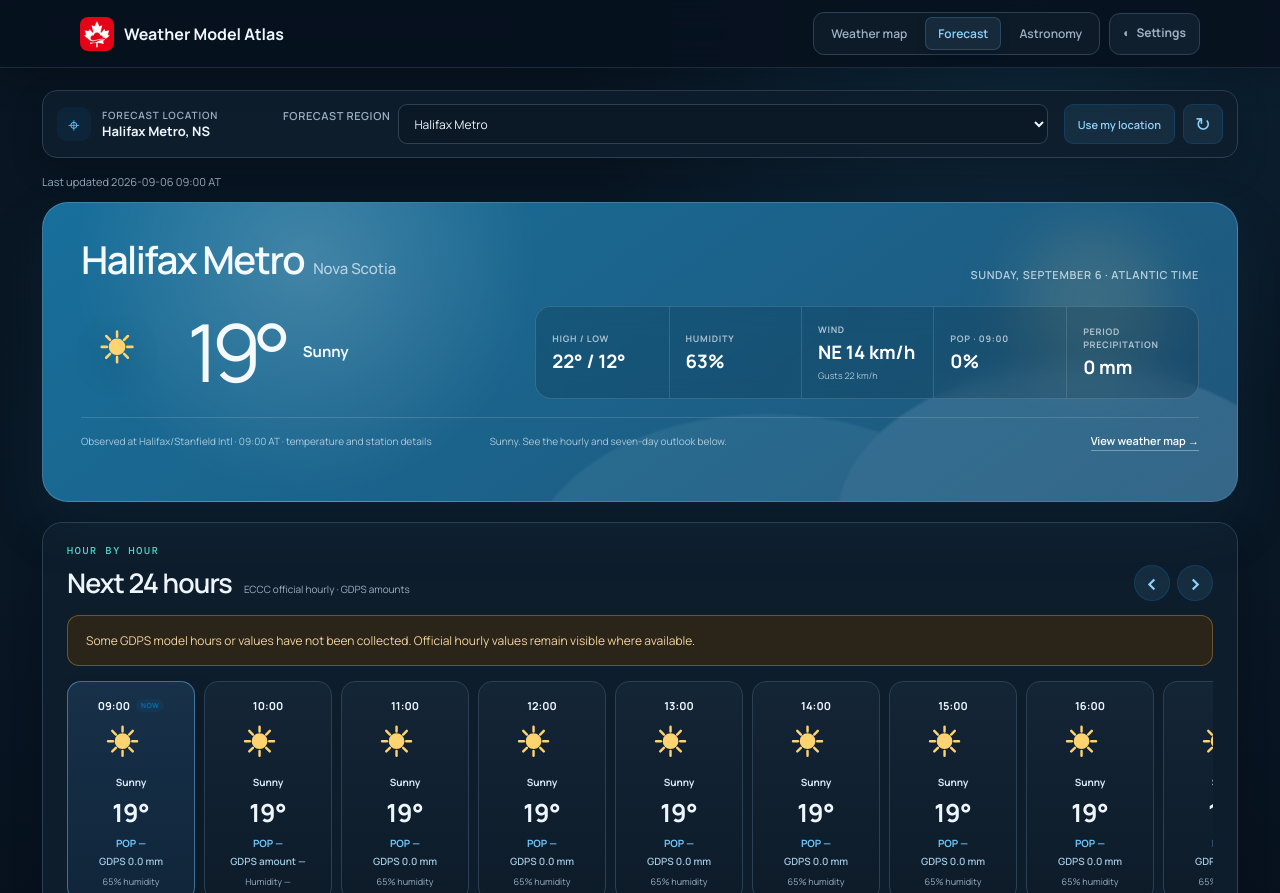
Test: forecast page › filters other regions by province and updates both outlooks only after selection
This screenshot has width=1280, height=893.
Select "Other province or territory…" in the dropdown labelled "Forecast region" at (723, 124), box [398, 104, 1048, 144]
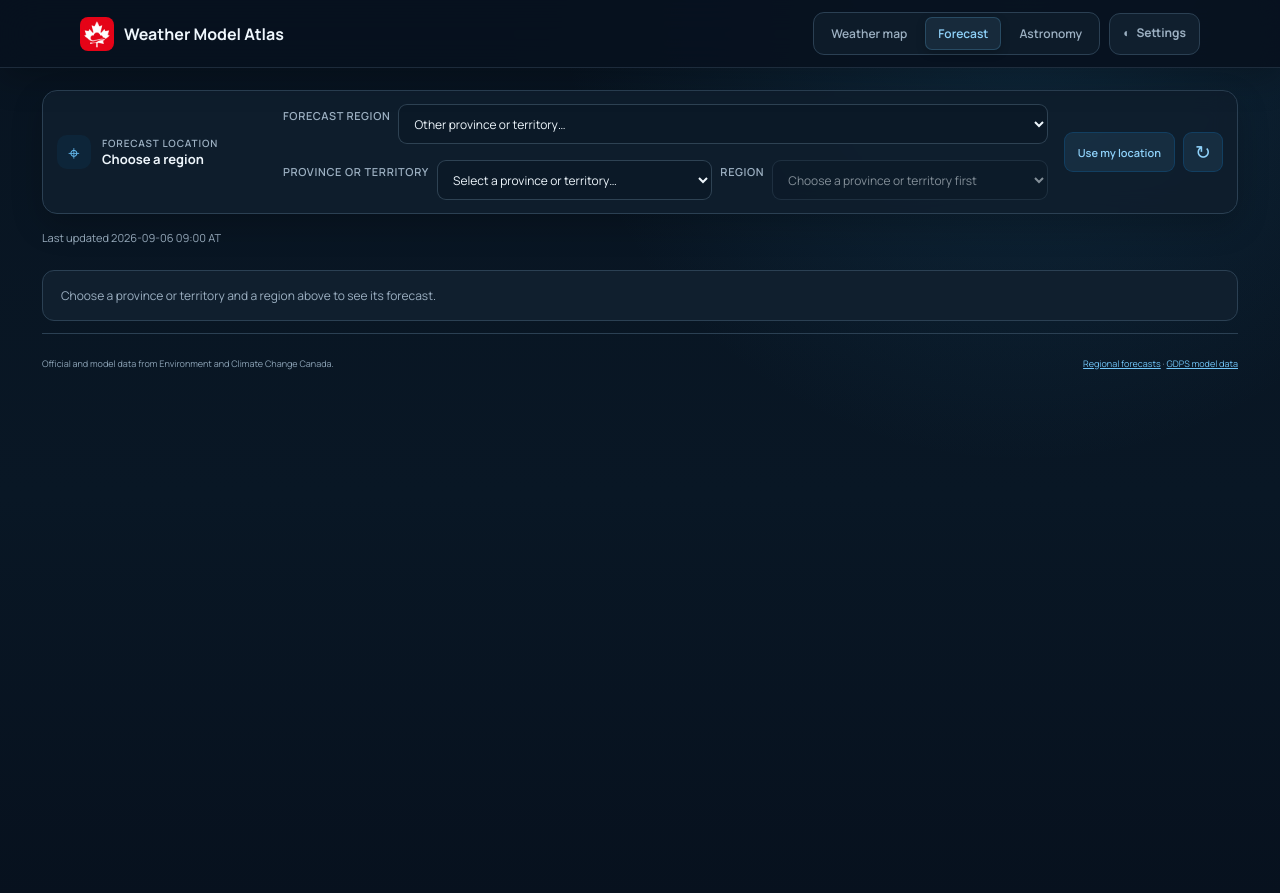
Now the text "Sunny" is gone
Now the dropdown labelled "Region" is disabled, box [772, 160, 1048, 200]
Select "Ontario" in the dropdown labelled "Province or territory" at (575, 180), box [437, 160, 712, 200]
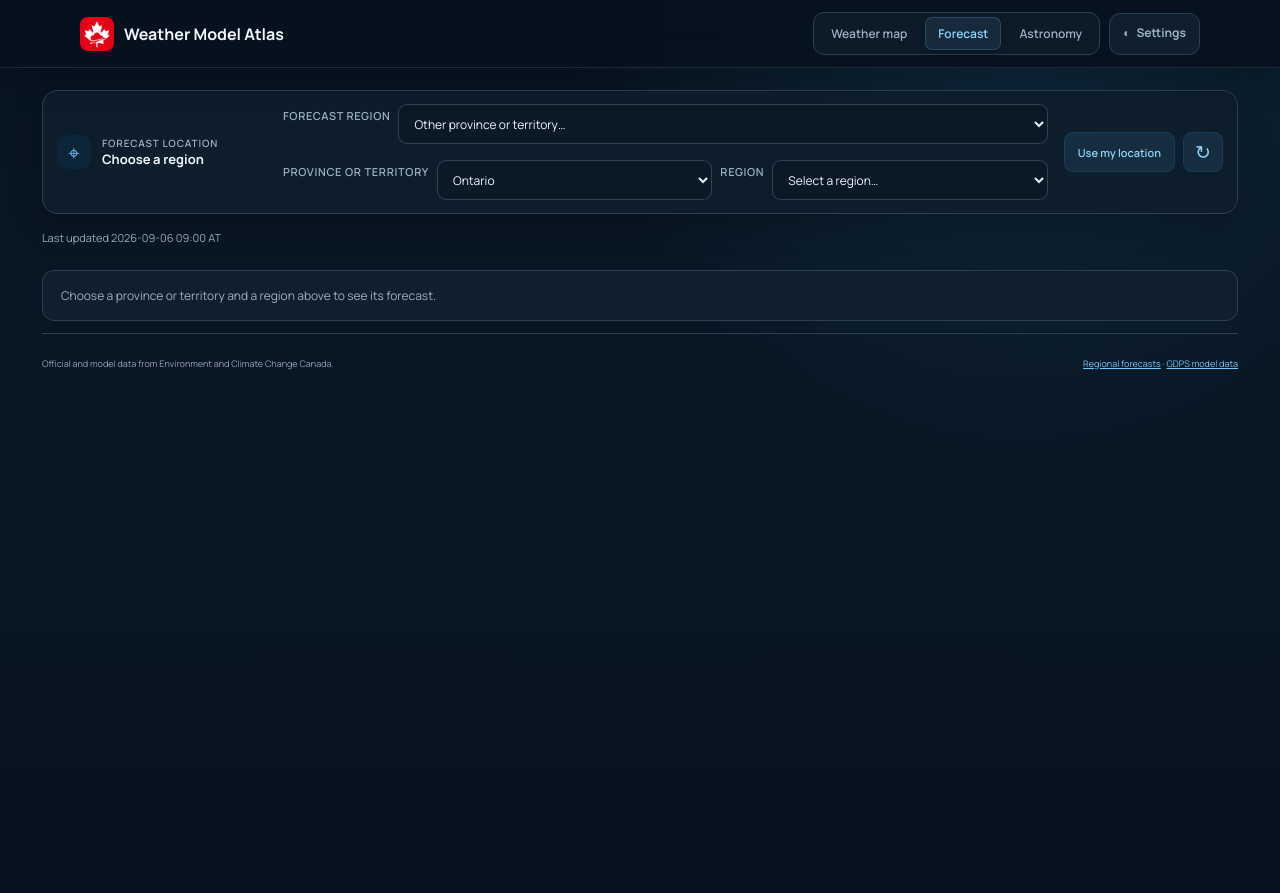
Select "Toronto" in the dropdown labelled "Region" at (910, 180), box [772, 160, 1048, 200]
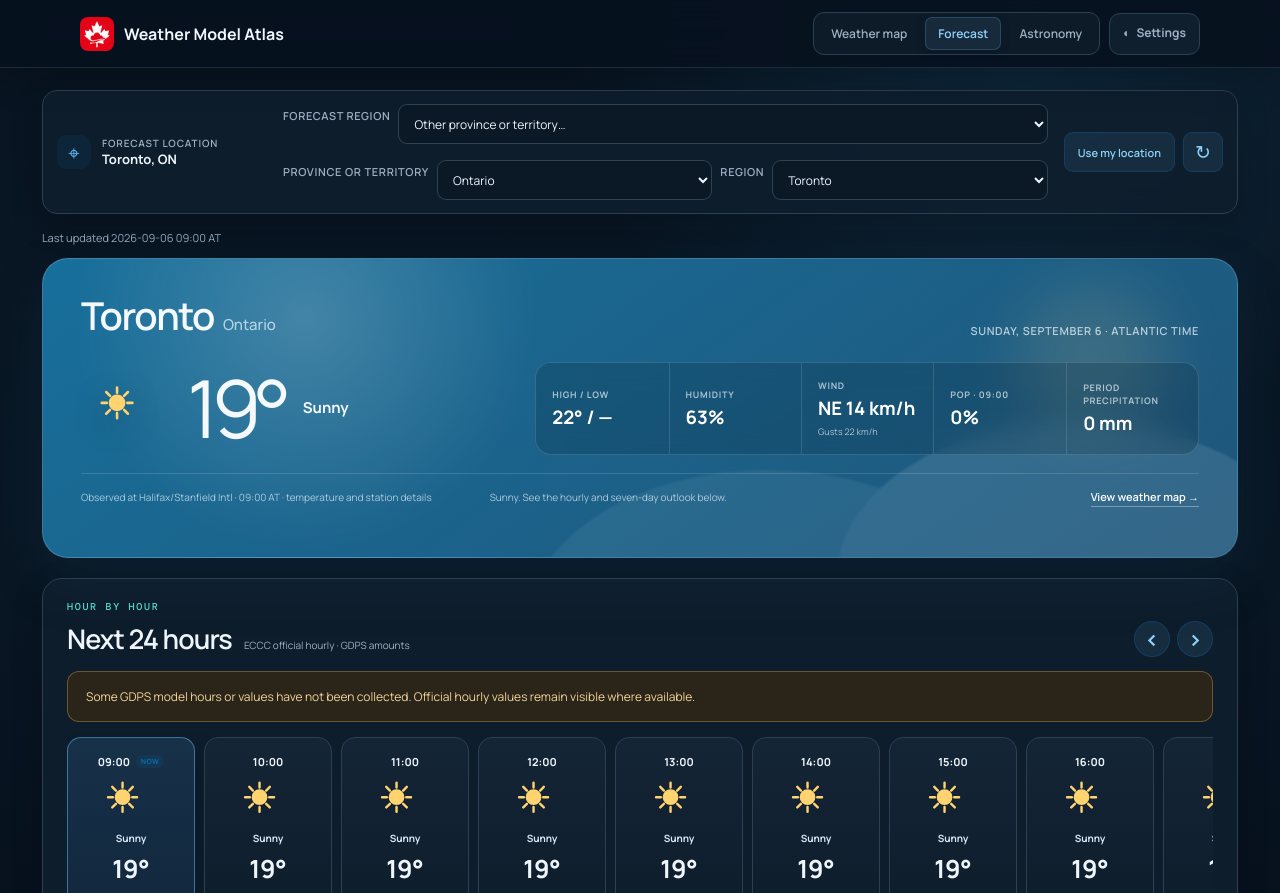
Select "British Columbia" in the dropdown labelled "Province or territory" at (575, 180), box [437, 160, 712, 200]
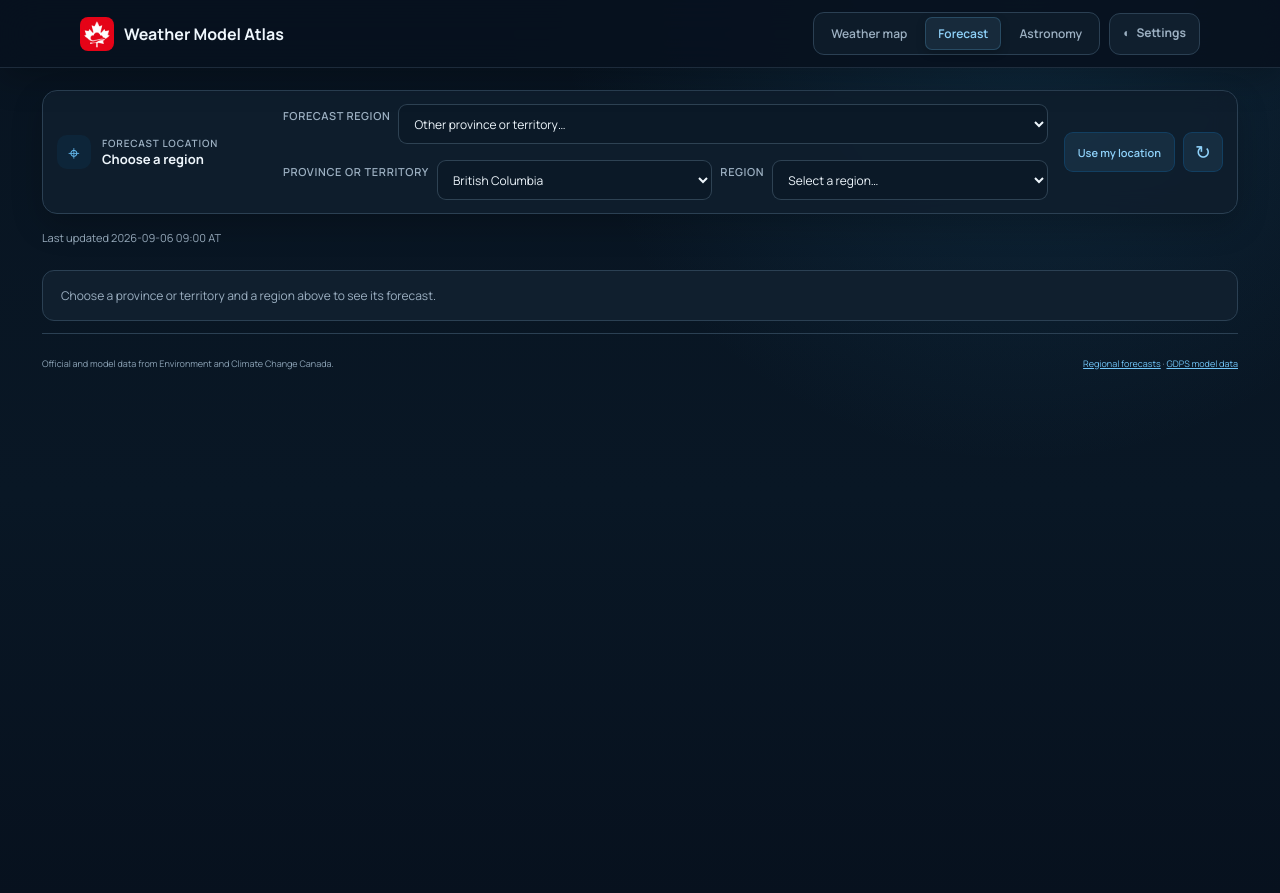
Now the text "Toronto" is gone
Select "Yarmouth County" in the dropdown labelled "Forecast region" at (723, 124), box [398, 104, 1048, 144]
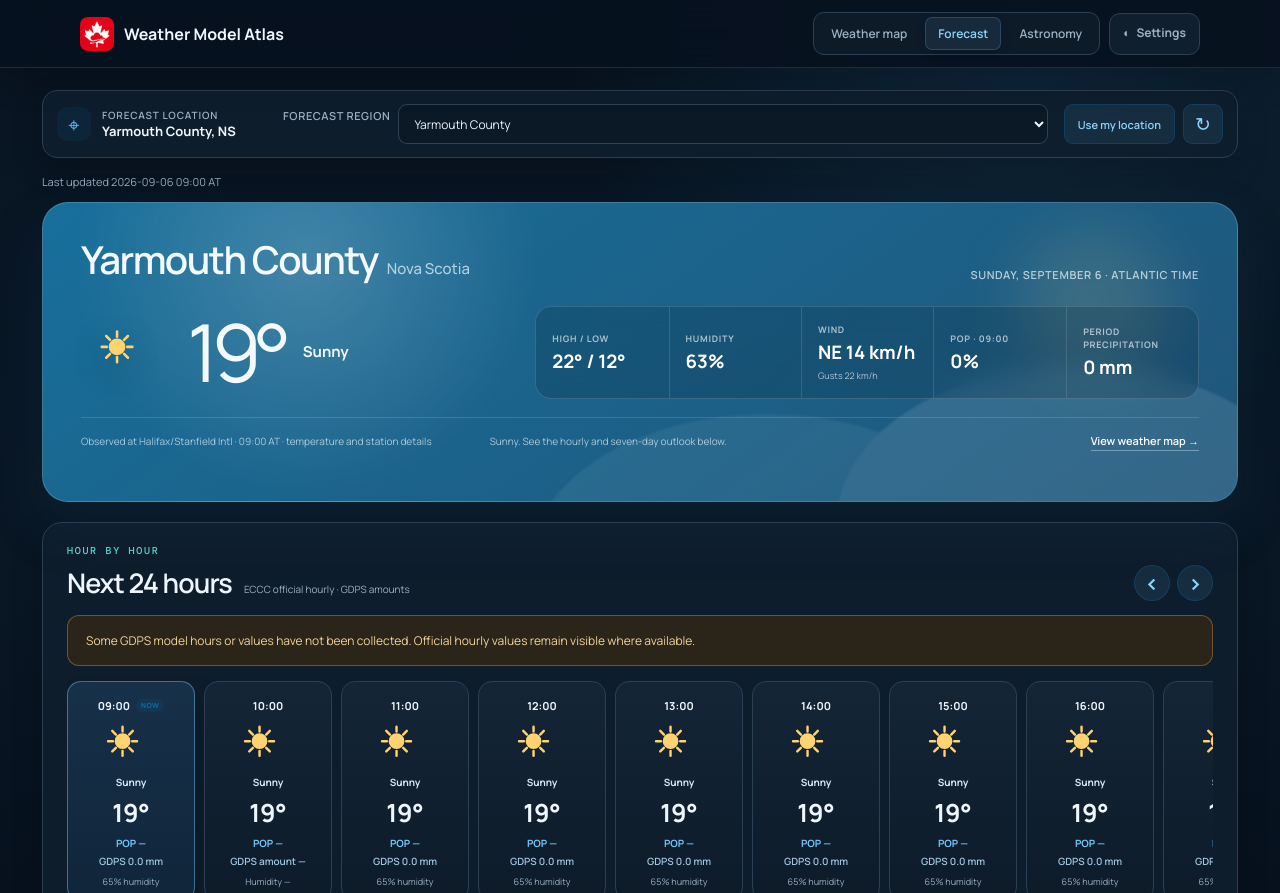
Now the label labelled "Province or territory" is gone
